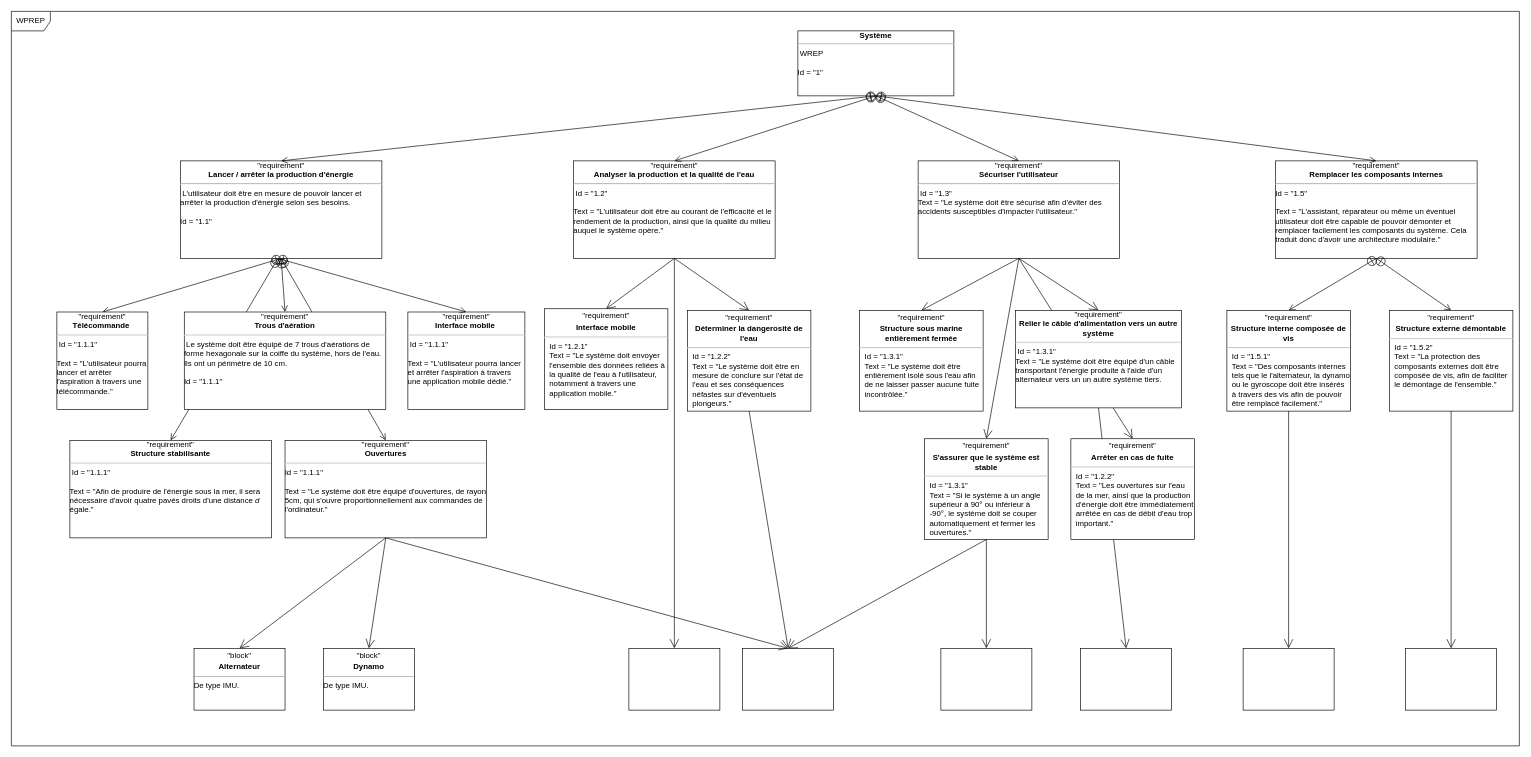
Some shapes in this 1531 by 757 pixel diagram are drawn without their labels. The shapes that lost their labels are listed below. From the top down, each one's centre as x and y in pixels, then its label:
(x=674, y=679): "block" Analyseur d'eau Capable de mesurer le pH et la température de l'eau.
(x=788, y=679): "block" Ordinateur D'une puissance d'1GHz.
(x=986, y=679): "block" Gyroscope De type IMU.
(x=1126, y=679): "block" Câble D'une longueur de 20 mètres et d'un rayon de 10cm.
(x=1288, y=679): "block" Vis Dimensions de M10 (diamètre de 10mm).
(x=1451, y=679): "block" Vis DImensions de M30.
